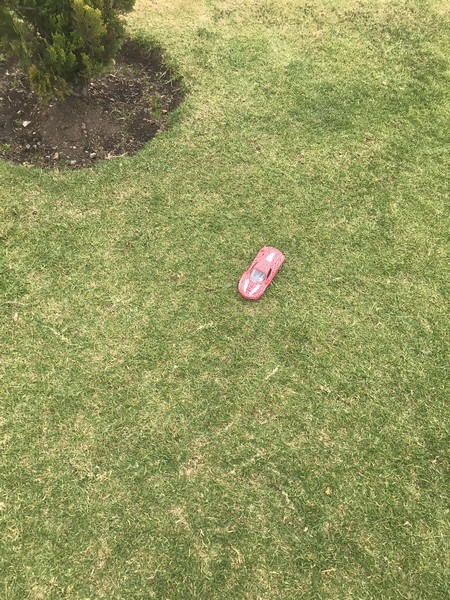RC: (235, 244, 287, 302)
